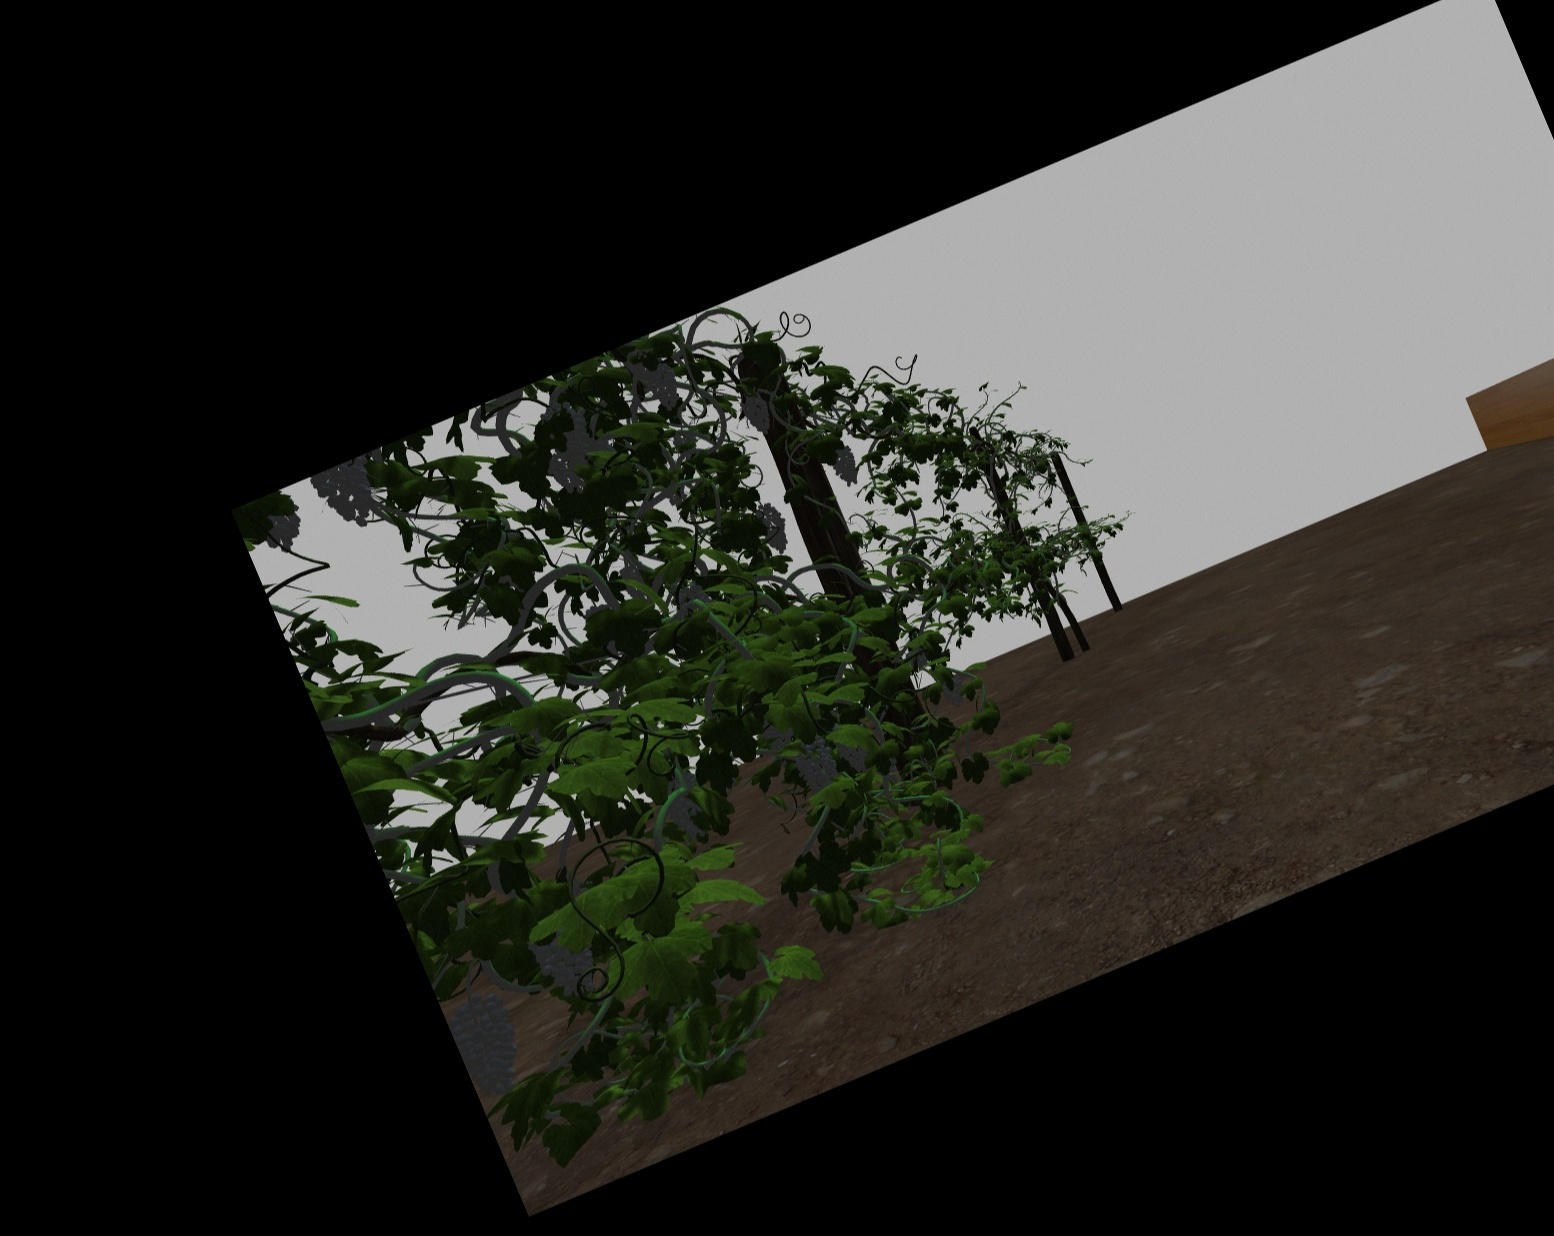grape: (467, 994, 522, 1091), (539, 930, 597, 995), (320, 468, 378, 527), (549, 404, 589, 462), (798, 742, 836, 788), (648, 359, 679, 411), (762, 502, 788, 552), (674, 793, 703, 839), (833, 441, 858, 486), (745, 394, 771, 434), (839, 734, 867, 771), (944, 675, 964, 705)
